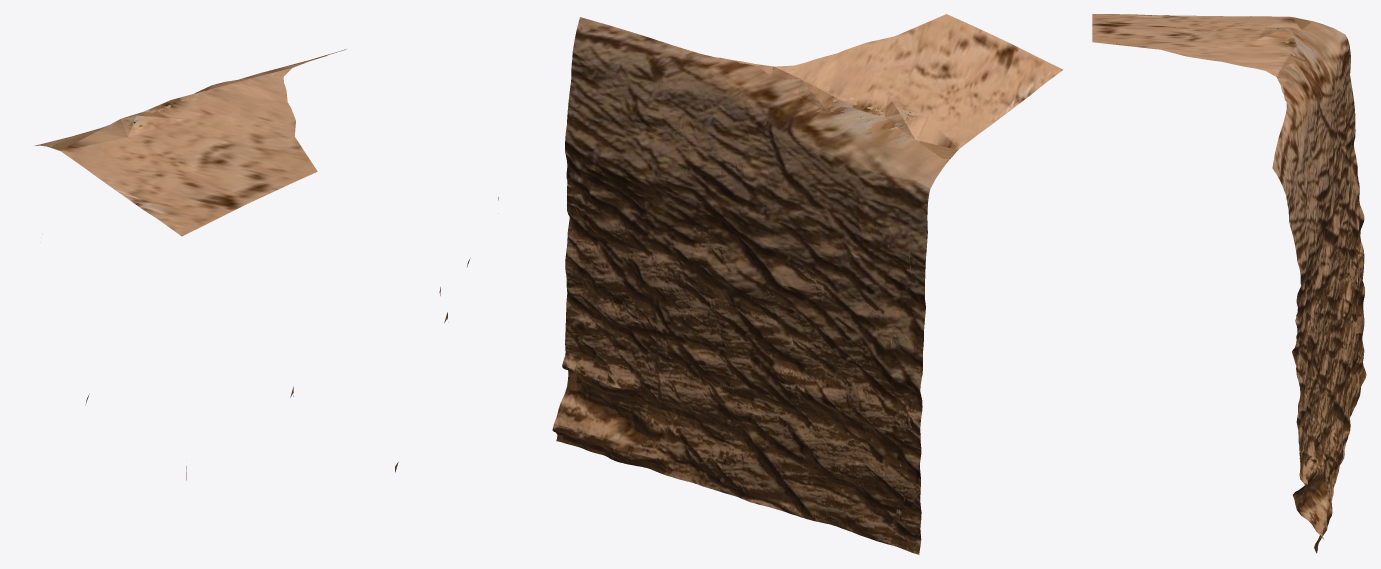
3 renders of one model, left to right at view 1: azimuth 30°, elevation 25°; view 2: azimuth 150°, elevation 25°; view 3: azimuth 270°, elevation 25°, orthographic. The views are drawn at different scales.
Size of the model in its own units: 1.04 by 1.04 by 0.6716.
Materials: 3 (3 with a texture image).
